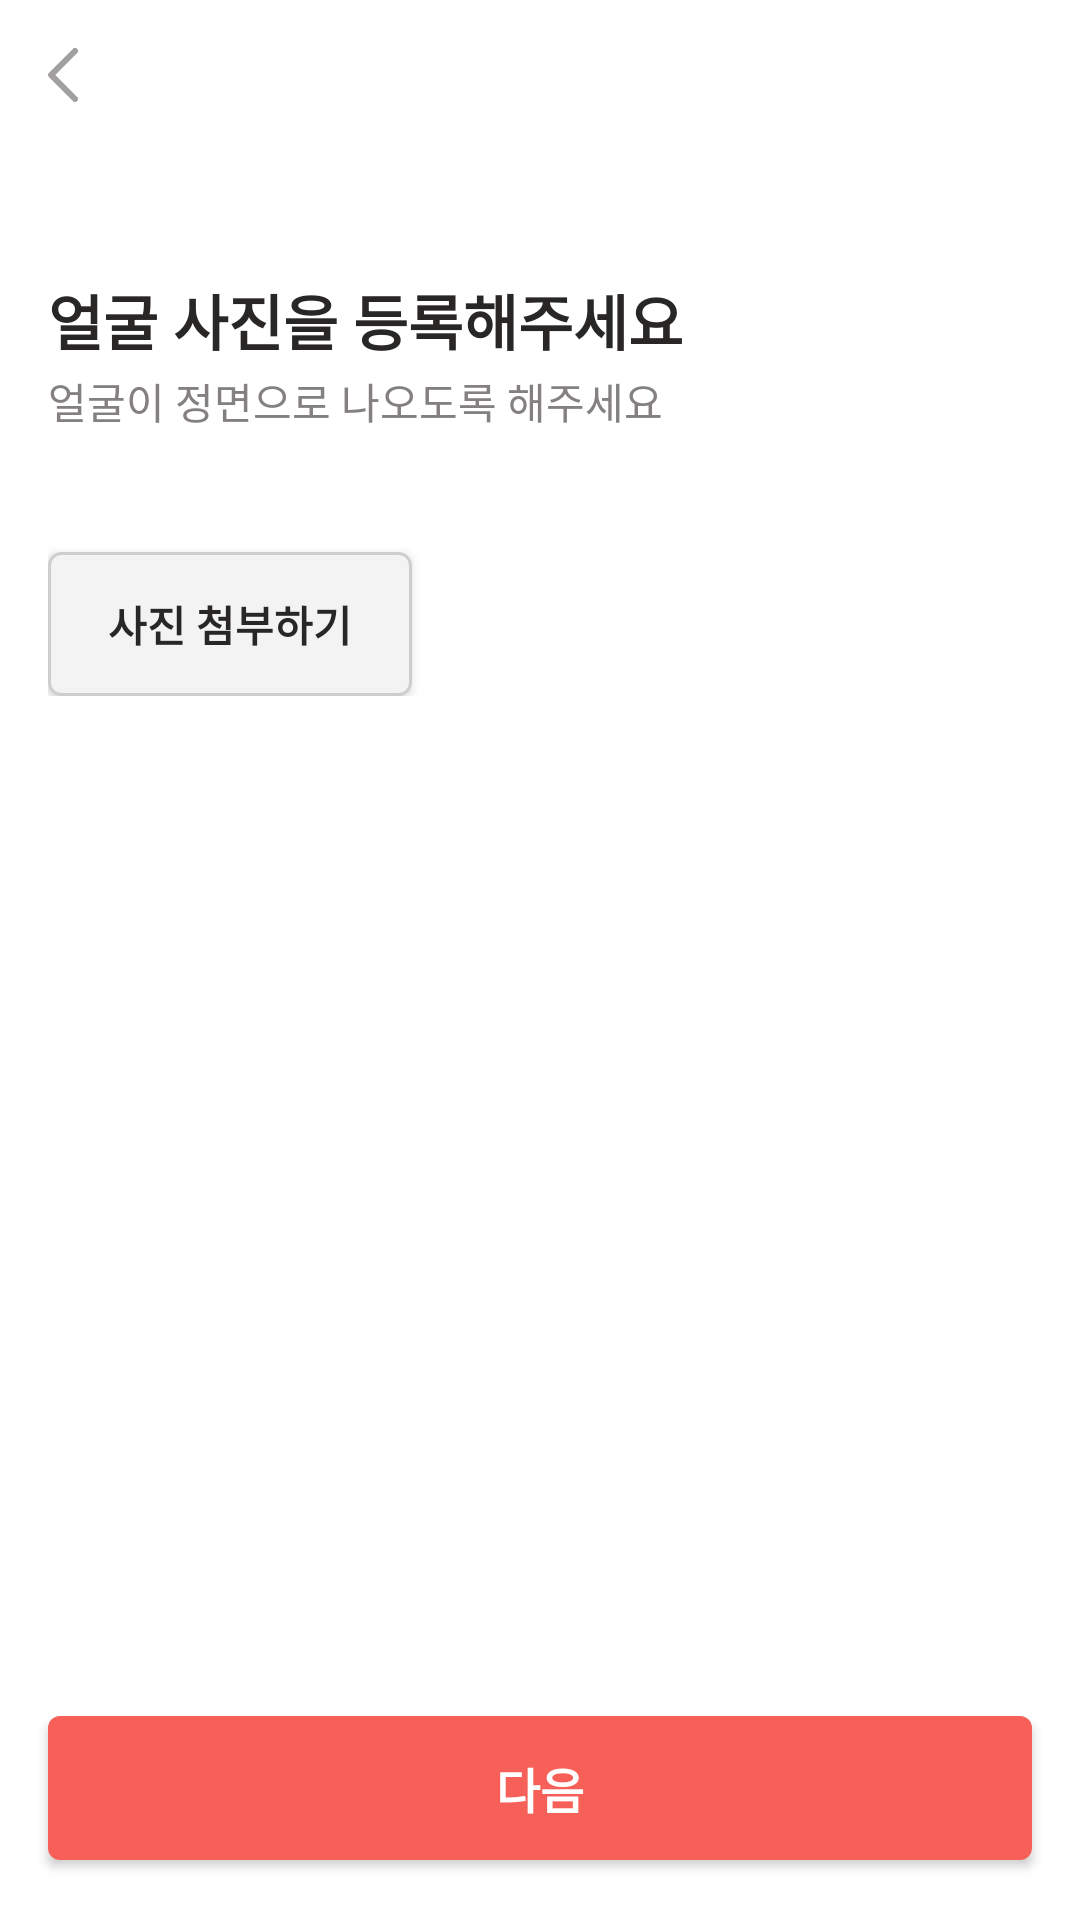

Named icons in this screenshot (1080x1920) and their centers, [x,y]:
back: [63,75]
